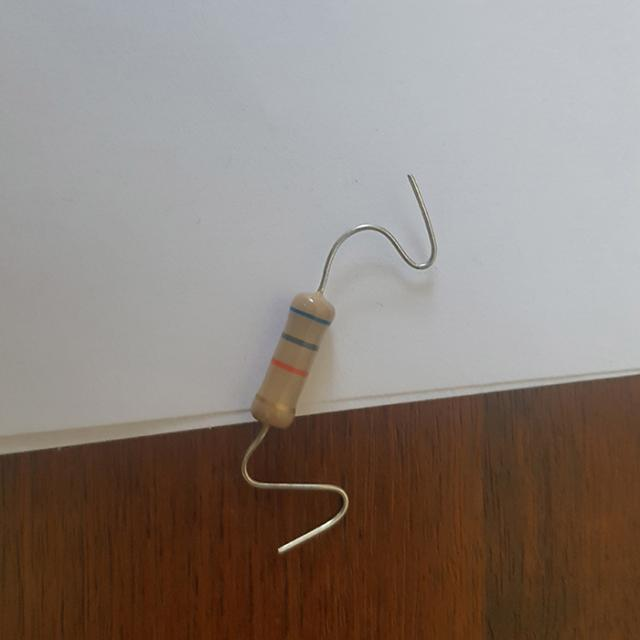blue: (290, 305, 330, 325)
gold: (256, 392, 293, 413)
grey: (281, 332, 317, 349)
orange: (271, 358, 306, 375)
resistor: (228, 274, 358, 449)
